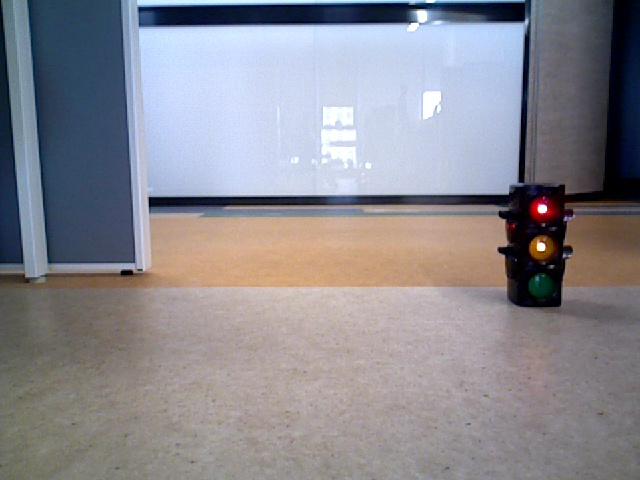red: (507, 187, 556, 301)
